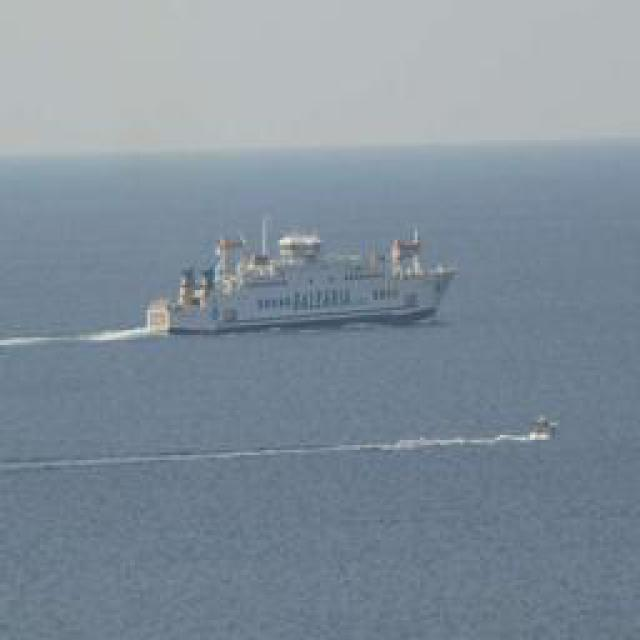Ship: (152, 223, 460, 338), (526, 408, 565, 448)
